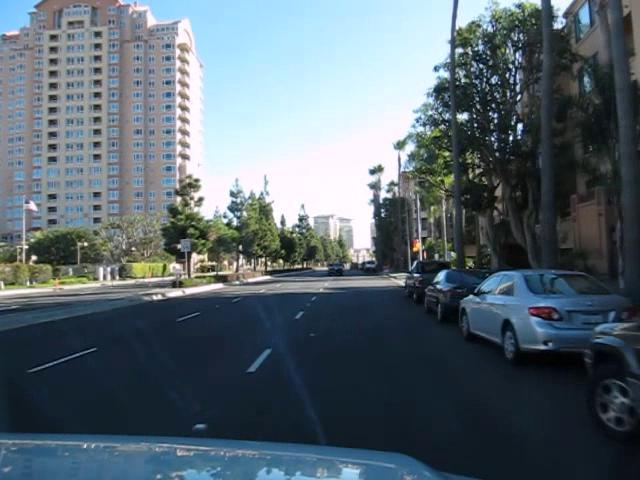speedLimit35: (179, 238, 191, 252)
